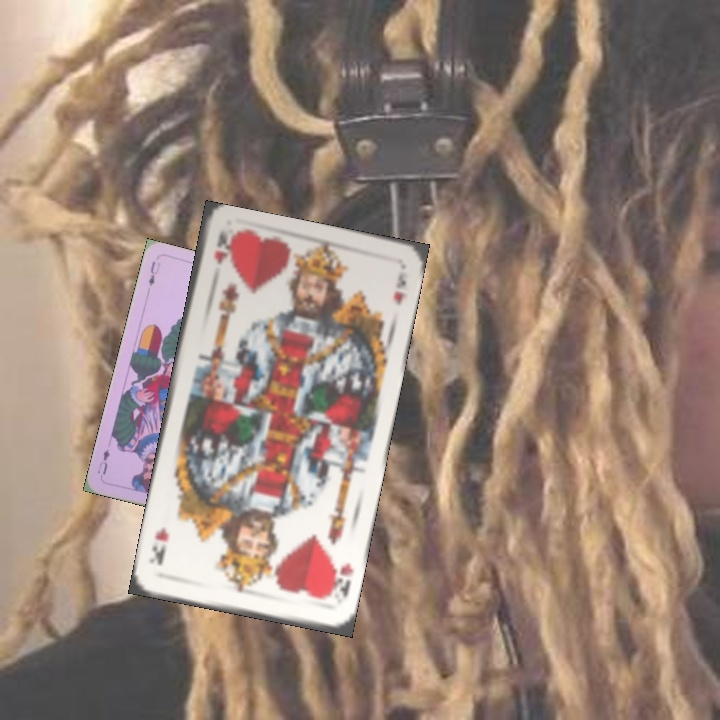EU: (144, 257, 163, 288)
HK: (324, 556, 356, 600), (210, 229, 233, 267)
